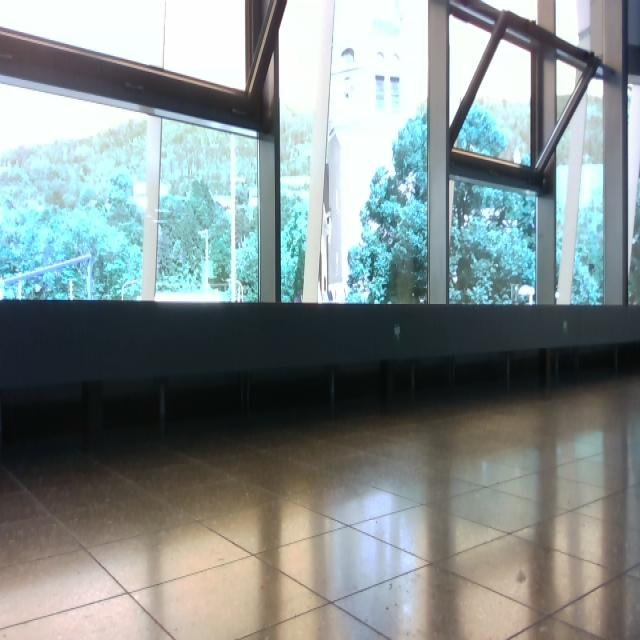light bulb: (518, 285, 535, 305), (394, 324, 401, 340), (555, 289, 560, 300)
tiled floor: (2, 372, 639, 638)
window: (1, 1, 640, 310)
